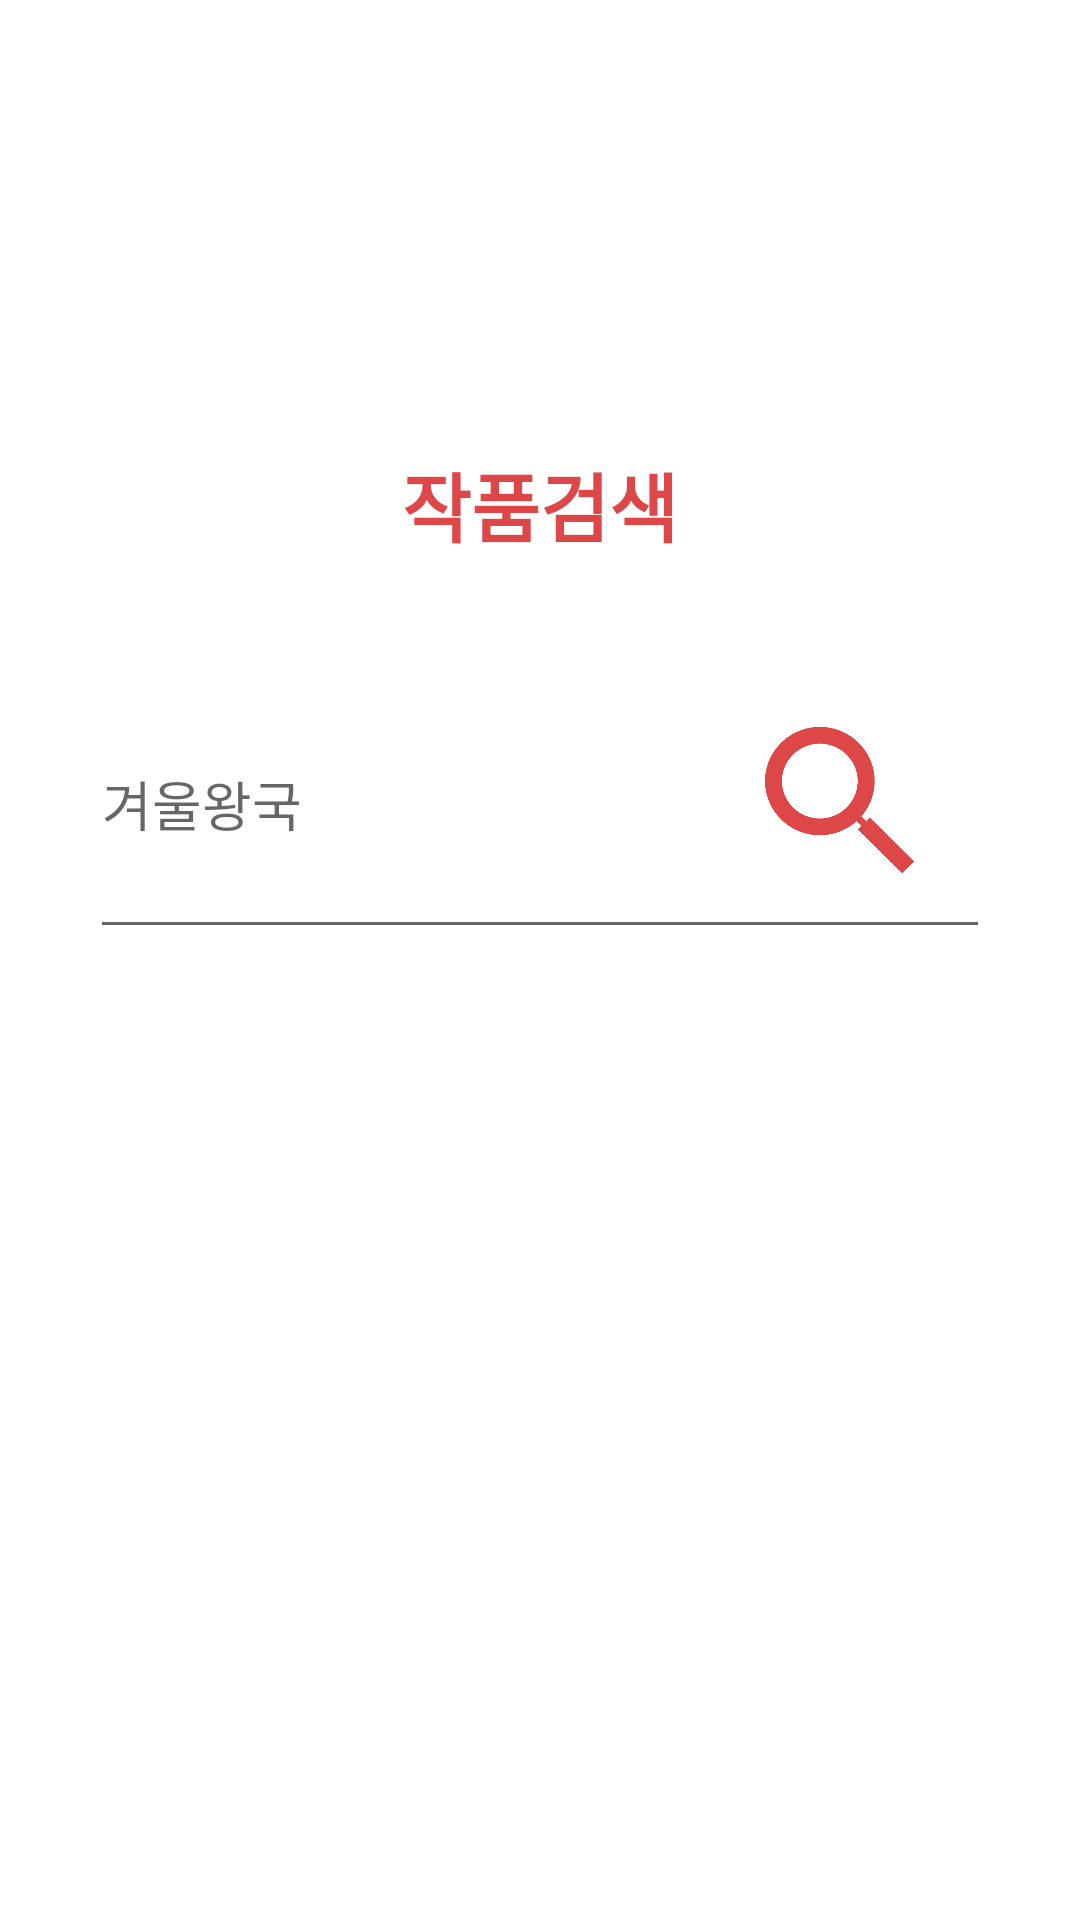

Icon click points for this 1080px x 1920px phone screenshot, format (x,y):
search: (839,800)
